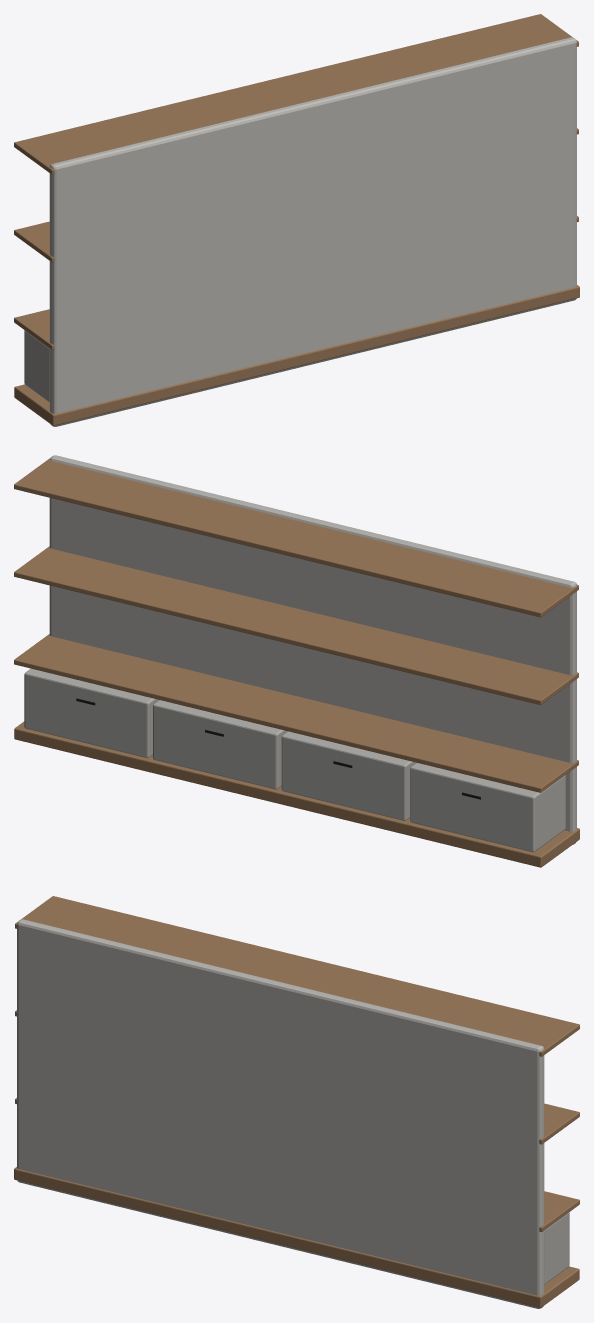
Rendered from shelf.glb.
The picture shows the model from 3 angles, top to bottom: view 1: azimuth 30°, elevation 25°; view 2: azimuth 150°, elevation 25°; view 3: azimuth 330°, elevation 25°; orthographic projection.
Parts seen in each view (by area): view 1: shelf; view 2: shelf; view 3: shelf.
Boxes of the visible parts, bbox=[...] form: shelf: bbox=[14, 14, 579, 426]; shelf: bbox=[14, 455, 579, 867]; shelf: bbox=[14, 896, 579, 1308].
Bounding box in the file's own units: 3.65 × 1.73 × 0.4728.
